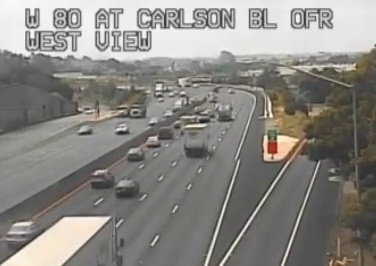car: (7, 221, 43, 247), (90, 169, 112, 187), (115, 179, 138, 196), (127, 148, 143, 161), (146, 136, 160, 147)
small-truck: (183, 124, 208, 155)
truck: (1, 215, 116, 266)
